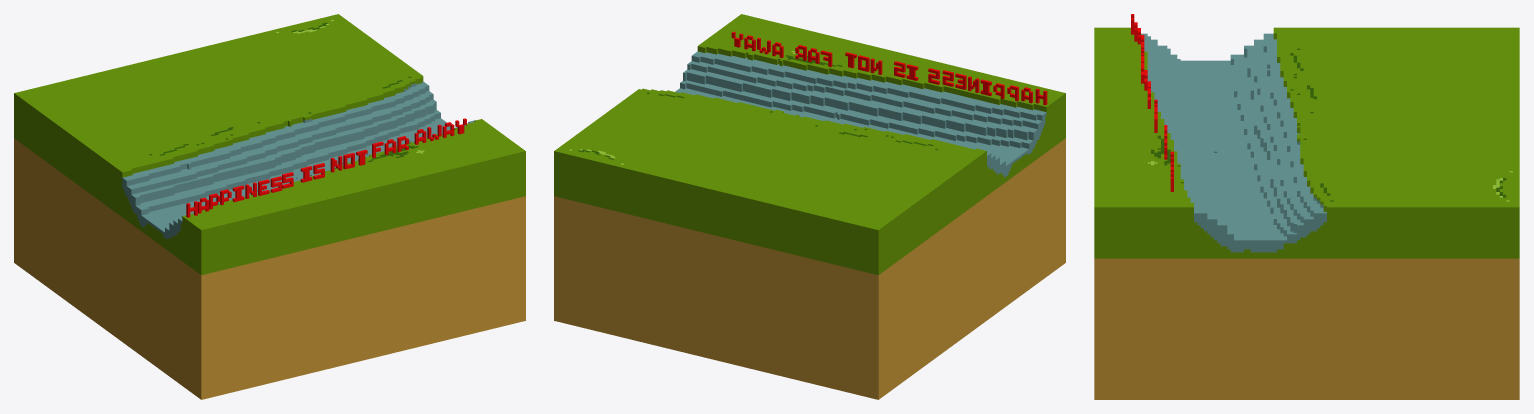
3 views of the same model, side by side, from view 1: azimuth 30°, elevation 25°; view 2: azimuth 150°, elevation 25°; view 3: azimuth 270°, elevation 25° (orthographic). The views are drawn at different scales.
Visible parts, largest first — view 1: 6I; view 2: 6I; view 3: 6I.
Part boxes in pixels (box(x1,y1,x2,y2)): 6I: box(14, 14, 525, 399); 6I: box(554, 14, 1065, 399); 6I: box(1094, 14, 1519, 399).
Size of the model in its own units: 12.8 by 6.9 by 12.8.
1 material, 1 textured.
